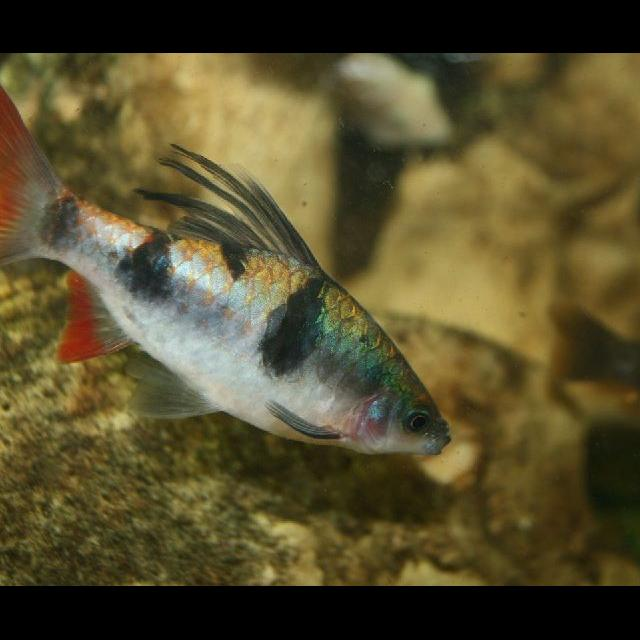fish: (0, 65, 459, 473)
